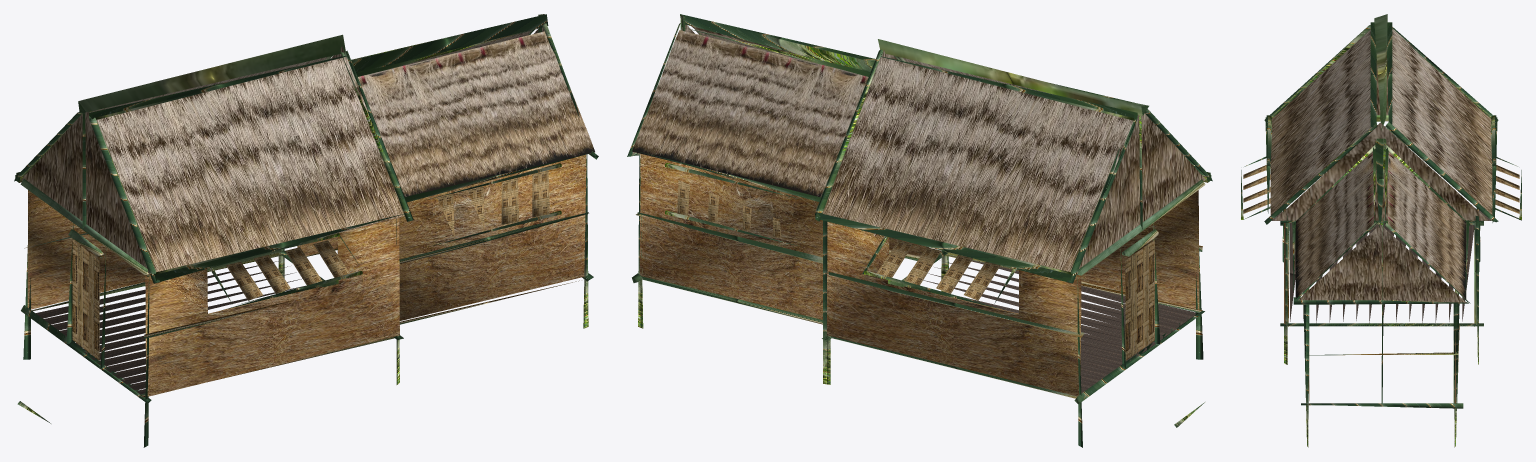
The model's file is nha-la.glb.
3 views of the same model, side by side, from view 1: azimuth 30°, elevation 25°; view 2: azimuth 150°, elevation 25°; view 3: azimuth 270°, elevation 25° (orthographic). The views are drawn at different scales.
Parts seen in each view (by area): view 1: Cube_Roof_0, Cube_Roof. 22010_0, Cube_Wooddd_0, Cube_Doork_0, Cube_Material.001_0; view 2: Cube_Roof_0, Cube_Roof. 22010_0, Cube_Wooddd_0, Cube_Doork_0, Cube_Material.001_0; view 3: Cube_Roof_0, Cube_Wooddd_0, Cube_Material.001_0, Cube_Doork_0.
Part boxes in pixels (bbox=[...]): Cube_Roof_0: bbox=[21, 27, 594, 273]; Cube_Roof. 22010_0: bbox=[27, 154, 586, 396]; Cube_Wooddd_0: bbox=[14, 14, 598, 447]; Cube_Doork_0: bbox=[72, 170, 549, 360]; Cube_Material.001_0: bbox=[35, 216, 404, 394]; Cube_Roof_0: bbox=[631, 24, 1205, 273]; Cube_Roof. 22010_0: bbox=[639, 154, 1199, 396]; Cube_Wooddd_0: bbox=[627, 14, 1212, 447]; Cube_Doork_0: bbox=[677, 180, 1154, 360]; Cube_Material.001_0: bbox=[923, 255, 1195, 393]; Cube_Roof_0: bbox=[1270, 28, 1492, 302]; Cube_Wooddd_0: bbox=[1241, 14, 1521, 447]; Cube_Material.001_0: bbox=[1272, 210, 1490, 322]; Cube_Doork_0: bbox=[1243, 137, 1519, 213].
Bounding box in the file's own units: 0.9946 × 0.5663 × 0.574.
Materials: 5 (5 with a texture image).
